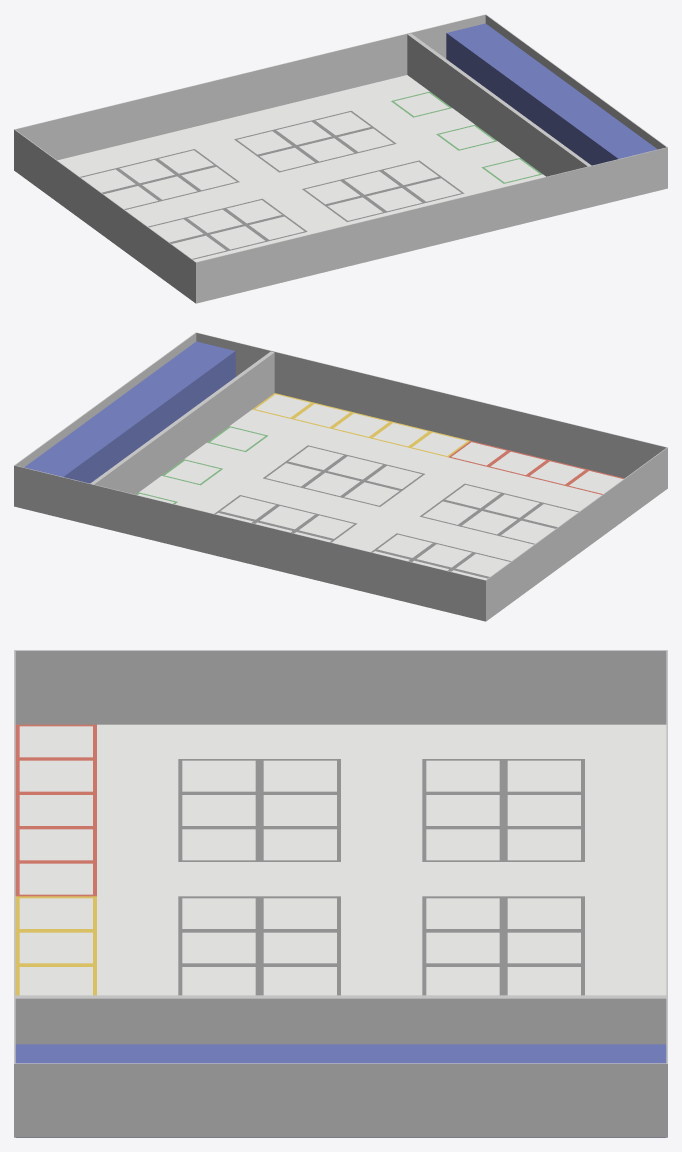
The model's file is area_warehouse1.dae.
3 views of the same model, one above another, from view 1: azimuth 30°, elevation 25°; view 2: azimuth 150°, elevation 25°; view 3: azimuth 270°, elevation 25° (orthographic). The views are drawn at different scales.
Parts seen in each view (by area): view 1: Body2, Body1, Body37, Body36, Body3, Body4, Body5, Body6, Body13, Body12, Body27, Body41 (+23 smaller); view 2: Body2, Body1, Body37, Body36, Body4, Body6, Body32, Body31, Body3, Body5, Body50, Body9 (+27 smaller); view 3: Body2, Body1, Body36, Body37, Body5, Body6, Body3, Body4, Body31, Body15, Body16, Body17 (+30 smaller).
Boxes of the visible parts, <box> form: Body2: <box>14,14,667,303</box>; Body1: <box>57,75,545,261</box>; Body37: <box>446,23,657,165</box>; Body36: <box>407,33,591,176</box>; Body3: <box>234,110,396,172</box>; Body4: <box>302,160,464,221</box>; Body5: <box>80,149,239,209</box>; Body6: <box>148,198,307,259</box>; Body13: <box>159,150,213,173</box>; Body12: <box>119,160,174,182</box>; Body27: <box>338,128,393,151</box>; Body41: <box>484,159,539,182</box>; Body2: <box>14,332,667,621</box>; Body1: <box>139,409,601,560</box>; Body37: <box>24,341,235,483</box>; Body36: <box>90,351,274,494</box>; Body4: <box>263,445,424,506</box>; Body6: <box>420,483,578,544</box>; Body32: <box>252,393,470,457</box>; Body31: <box>448,441,624,494</box>; Body3: <box>214,495,356,542</box>; Body5: <box>371,533,511,578</box>; Body50: <box>451,442,506,465</box>; Body9: <box>288,446,343,469</box>; Body2: <box>14,650,667,1137</box>; Body1: <box>97,724,666,995</box>; Body36: <box>15,995,666,1044</box>; Body37: <box>15,1044,666,1137</box>; Body5: <box>422,759,584,861</box>; Body6: <box>178,759,340,861</box>; Body3: <box>422,896,584,995</box>; Body4: <box>178,896,340,995</box>; Body31: <box>15,724,96,896</box>; Body15: <box>426,932,499,963</box>; Body16: <box>182,932,255,963</box>; Body17: <box>182,829,255,860</box>.
Size of the model in its own units: 12.04 by 8.04 by 1.01.
